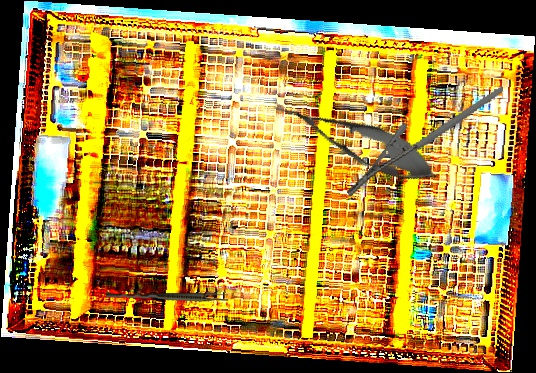Micro Scissor: (264, 84, 448, 196)
Needle Holder: (330, 85, 521, 199)
Tissue Forceps: (106, 291, 228, 302)
